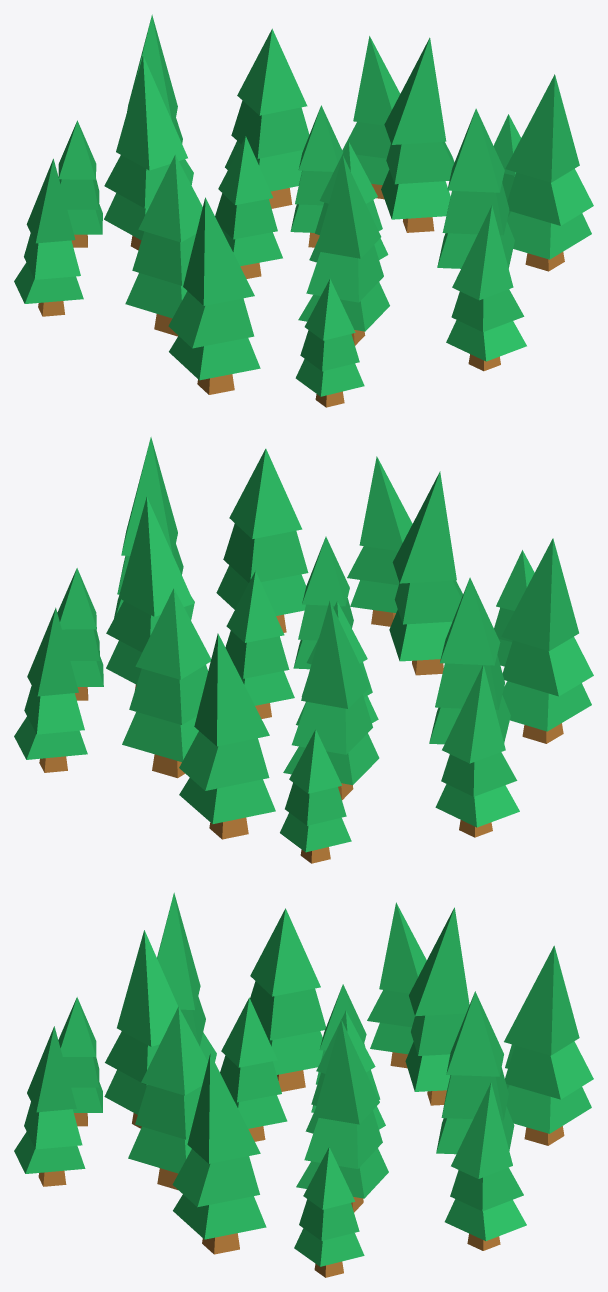
File: nature_TaigaHill.fbx
3 views of the same model, one above another, from view 1: azimuth 30°, elevation 25°; view 2: azimuth 150°, elevation 25°; view 3: azimuth 270°, elevation 25° (orthographic). The views are drawn at different scales.
Visible parts, largest first — view 1: Taiga; view 2: Taiga; view 3: Taiga.
Part boxes in pixels (x1=…): Taiga: x1=14, y1=14, x2=593, y2=407; Taiga: x1=14, y1=437, x2=593, y2=863; Taiga: x1=14, y1=892, x2=593, y2=1277.
Bounding box in the file's own units: 171 × 73.14 × 174.
